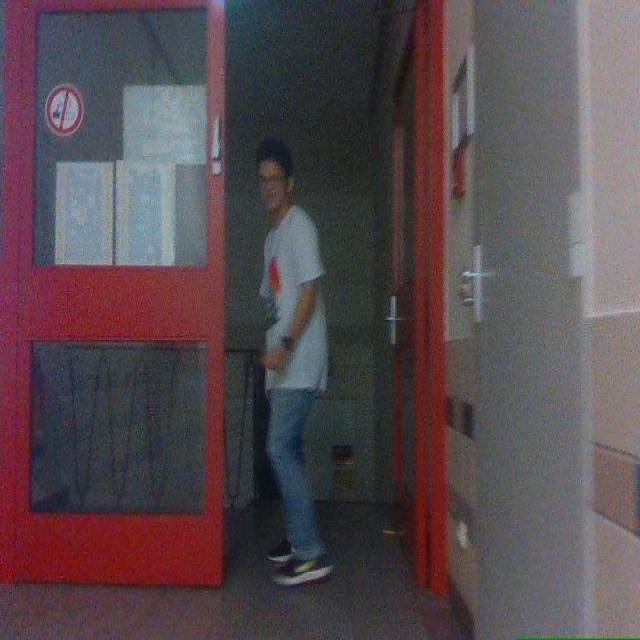humans: (257, 137, 332, 583)
